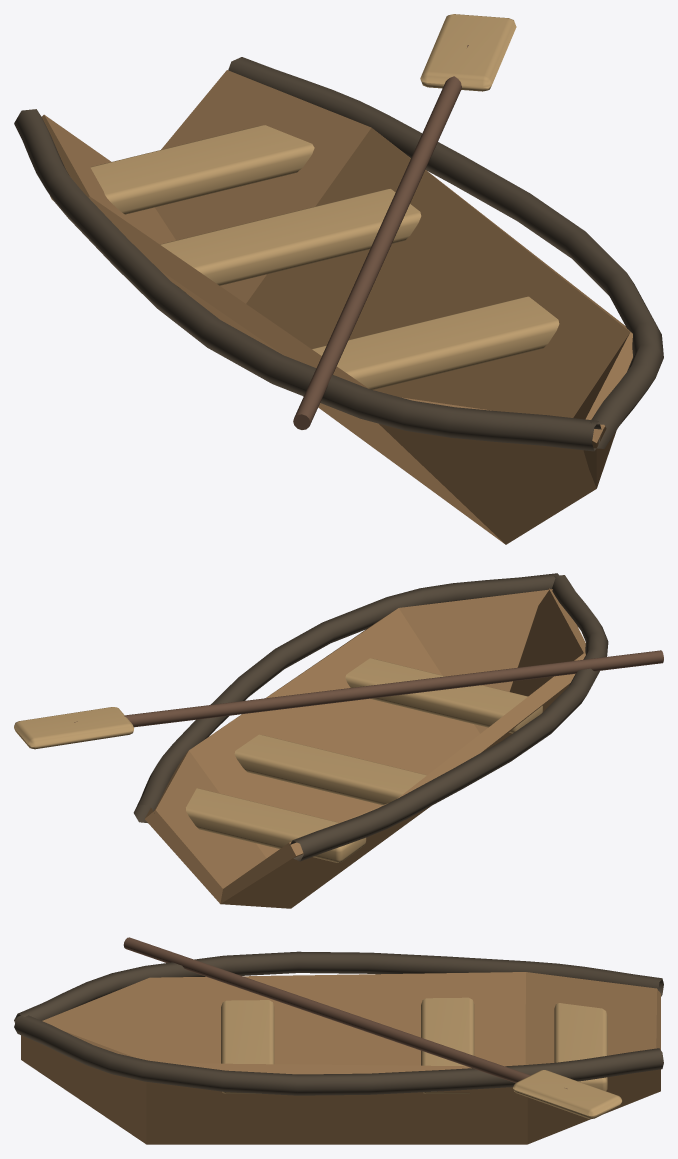
File: boat.glb
The picture shows the model from 3 angles, top to bottom: view 1: azimuth 30°, elevation 25°; view 2: azimuth 150°, elevation 25°; view 3: azimuth 270°, elevation 25°; orthographic projection. The views are drawn at different scales.
Visible parts, largest first — view 1: boat_wood, boat_wood_light, boat_wood_dark, boat_timber; view 2: boat_wood, boat_wood_light, boat_wood_dark, boat_timber; view 3: boat_wood, boat_wood_dark, boat_wood_light, boat_timber.
Boxes of the visible parts, left/top/right/bottom form: boat_wood: left=42, top=70, right=632, bottom=544; boat_wood_light: left=50, top=14, right=559, bottom=389; boat_wood_dark: left=14, top=57, right=663, bottom=451; boat_timber: left=293, top=45, right=468, bottom=429; boat_wood: left=145, top=588, right=585, bottom=908; boat_wood_light: left=14, top=658, right=542, bottom=862; boat_wood_dark: left=133, top=573, right=608, bottom=861; boat_timber: left=74, top=650, right=663, bottom=727; boat_wood: left=21, top=972, right=660, bottom=1144; boat_wood_dark: left=14, top=951, right=663, bottom=1095; boat_wood_light: left=221, top=997, right=621, bottom=1118; boat_timber: left=123, top=937, right=567, bottom=1088.
Size of the model in its own units: 1.66 by 0.603 by 2.44.
